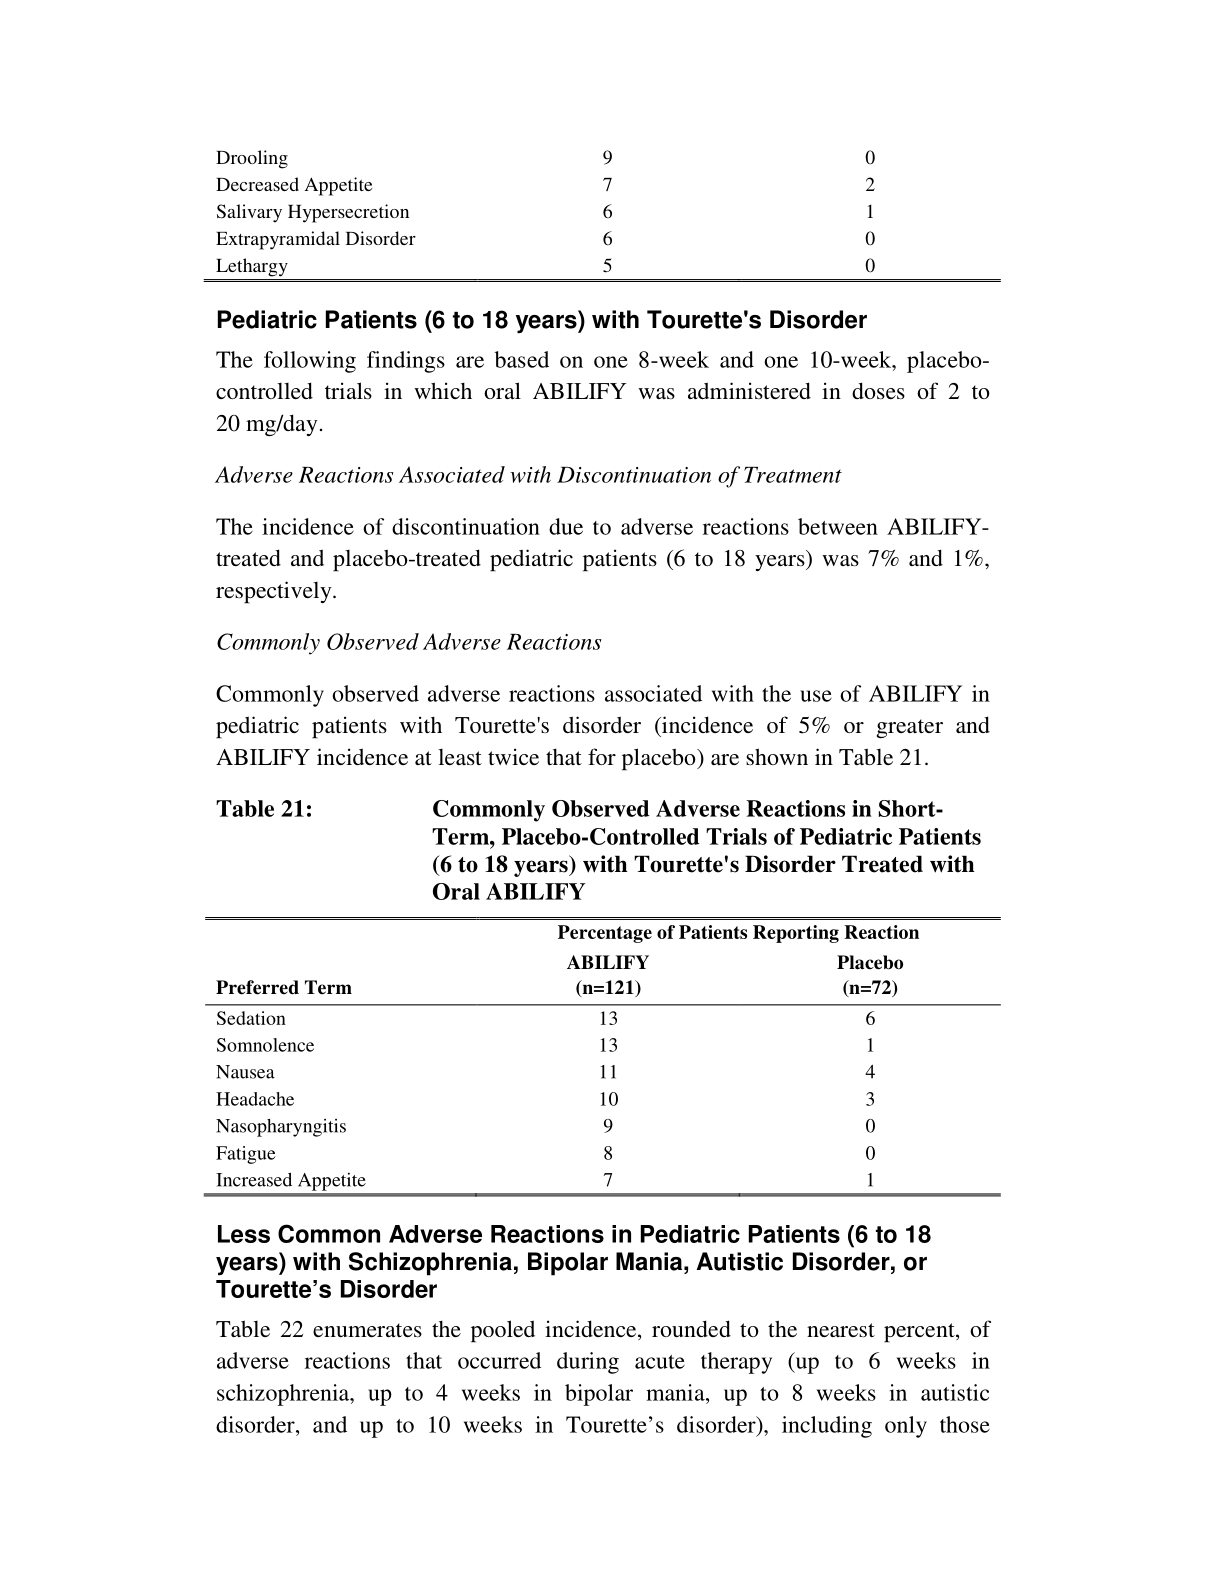partial_lined: (203, 915, 1003, 1198), (202, 138, 1002, 283)
